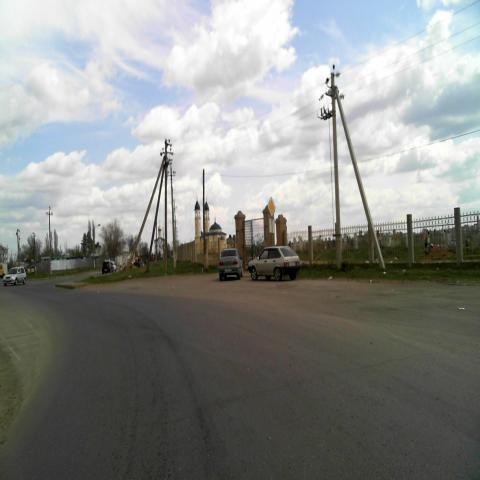2_1: (266, 197, 276, 218)
